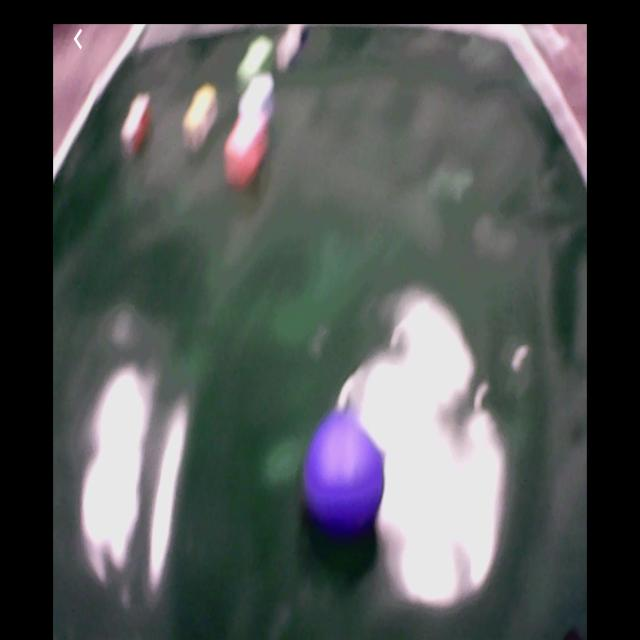ball: (305, 416, 386, 524)
